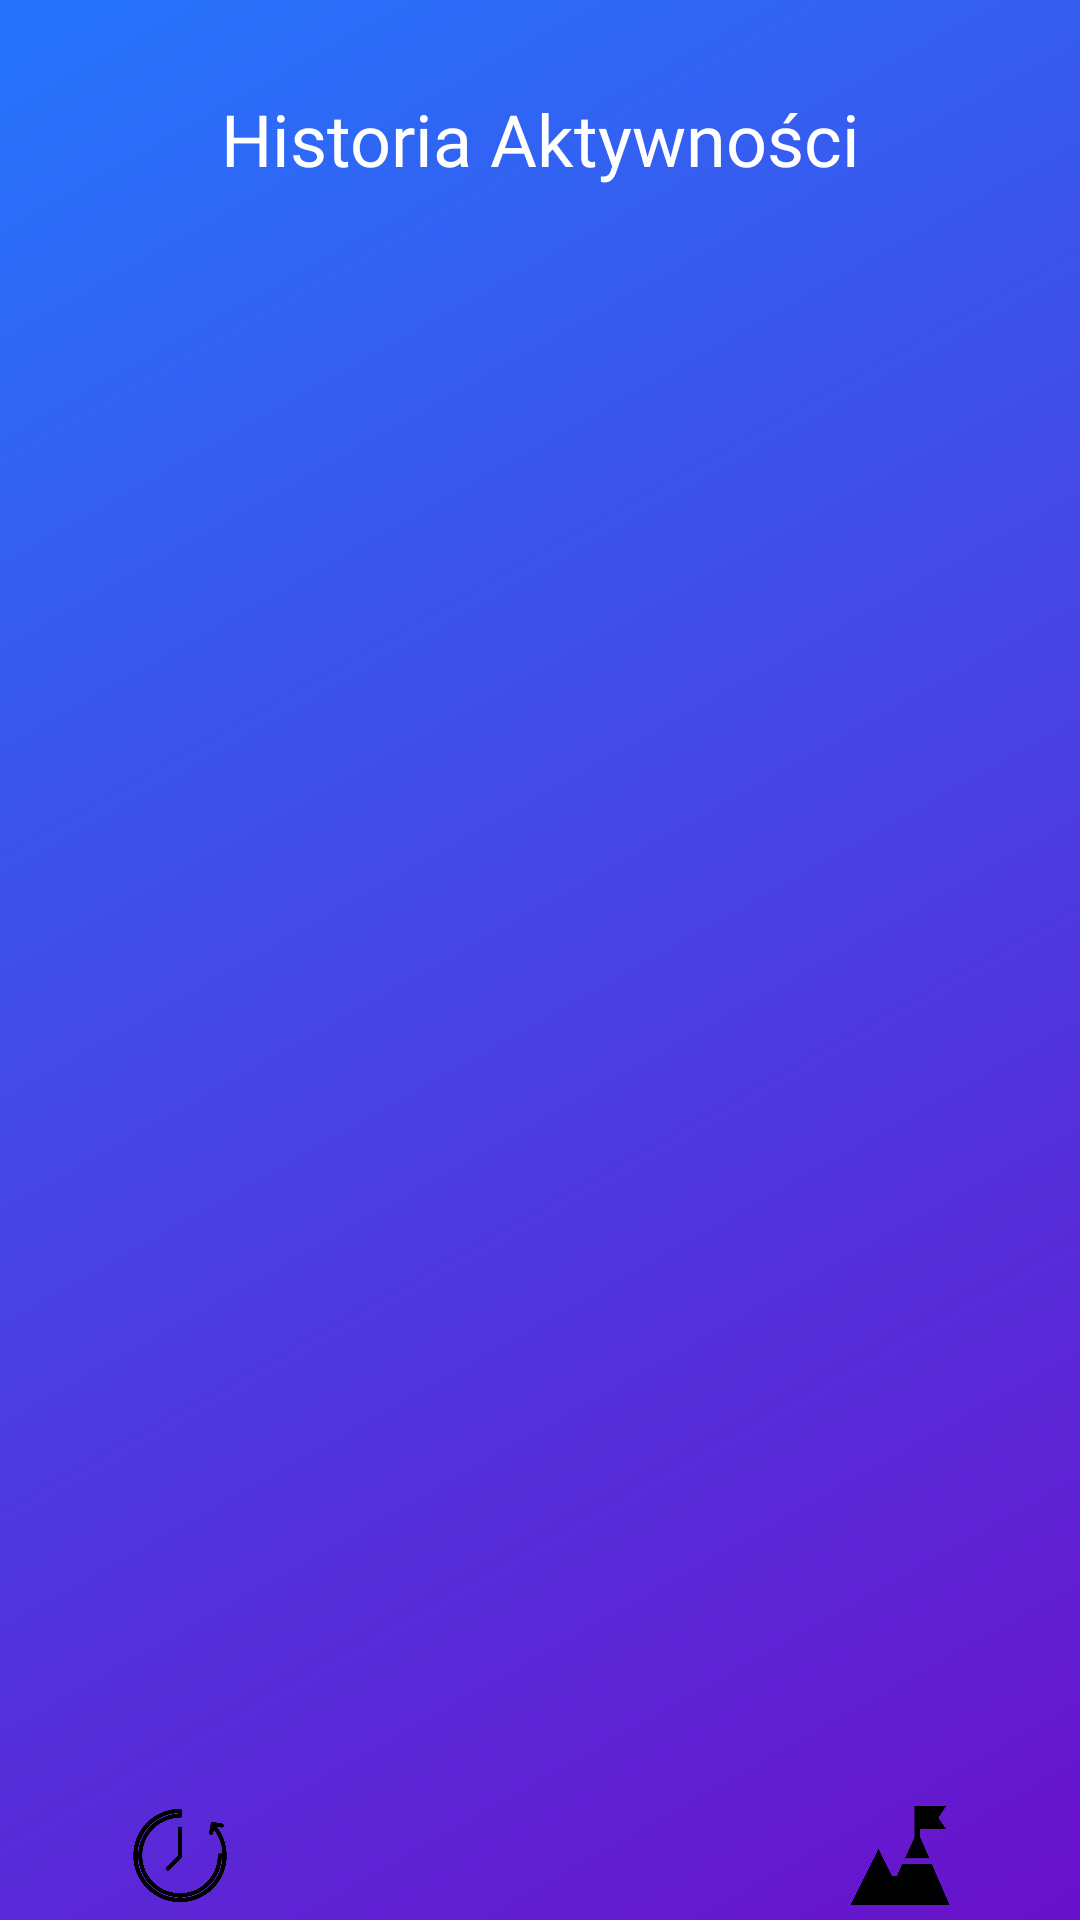

Icons on this 1080x1920 Android screen, each with the point to tap as (x=x, y=y):
Cele: (x=900, y=1855)
Historia: (x=180, y=1855)
